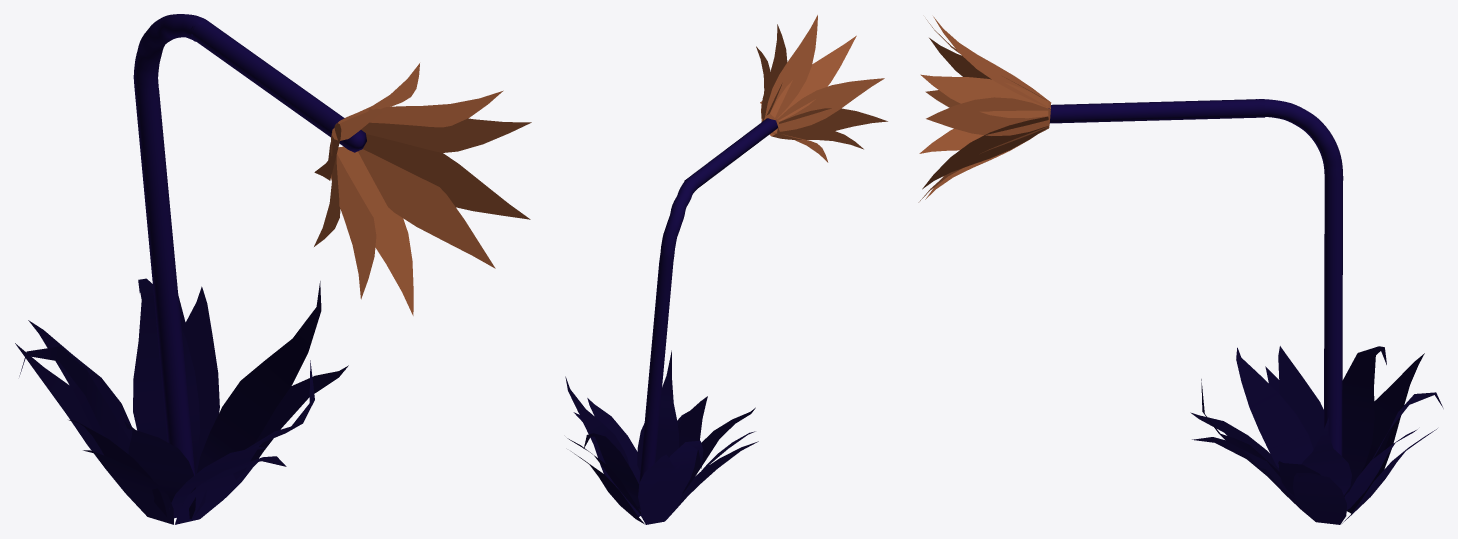
3 views of the same model, side by side, from view 1: azimuth 30°, elevation 25°; view 2: azimuth 150°, elevation 25°; view 3: azimuth 270°, elevation 25° (orthographic). The views are drawn at different scales.
Parts seen in each view (by area): view 1: brush_Petal_g1_b0, brush_Icing_g1_b0; view 2: brush_Petal_g1_b0, brush_Icing_g1_b0; view 3: brush_Petal_g1_b0, brush_Icing_g1_b0.
Boxes of the visible parts, <box> form: brush_Petal_g1_b0: <box>15,63,531,524</box>; brush_Icing_g1_b0: <box>133,14,366,475</box>; brush_Petal_g1_b0: <box>565,15,887,524</box>; brush_Icing_g1_b0: <box>637,118,777,508</box>; brush_Petal_g1_b0: <box>918,16,1443,524</box>; brush_Icing_g1_b0: <box>1048,99,1343,456</box>.
Bounding box in the file's own units: 3.84 × 8.17 × 7.86.
